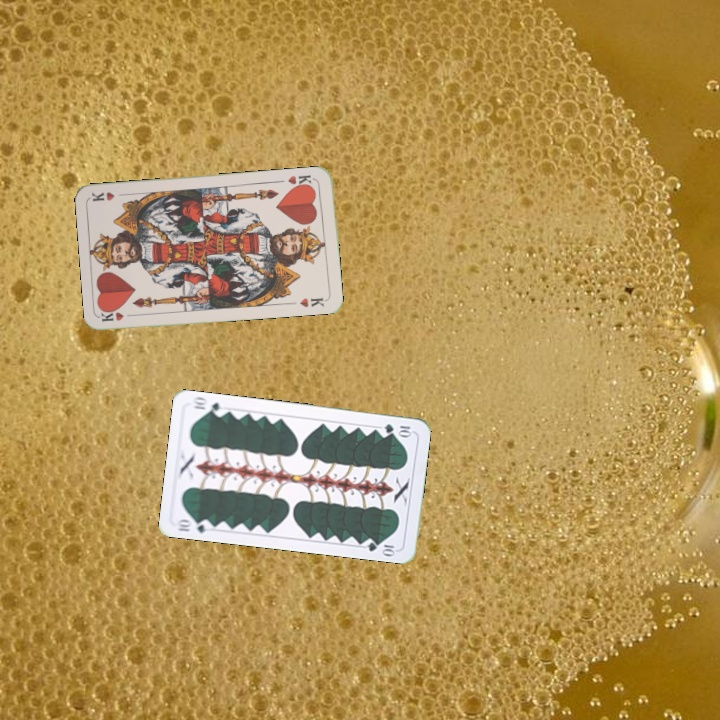G10: (173, 515, 214, 535), (381, 420, 415, 438)
HK: (98, 306, 139, 324), (284, 171, 318, 191)
